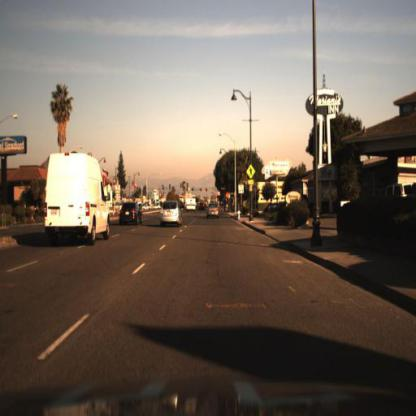car: (42, 151, 112, 250), (159, 196, 184, 229), (118, 201, 144, 226), (206, 199, 224, 222), (187, 193, 199, 212), (186, 198, 198, 215)
truck: (42, 139, 112, 252), (185, 191, 200, 216)
